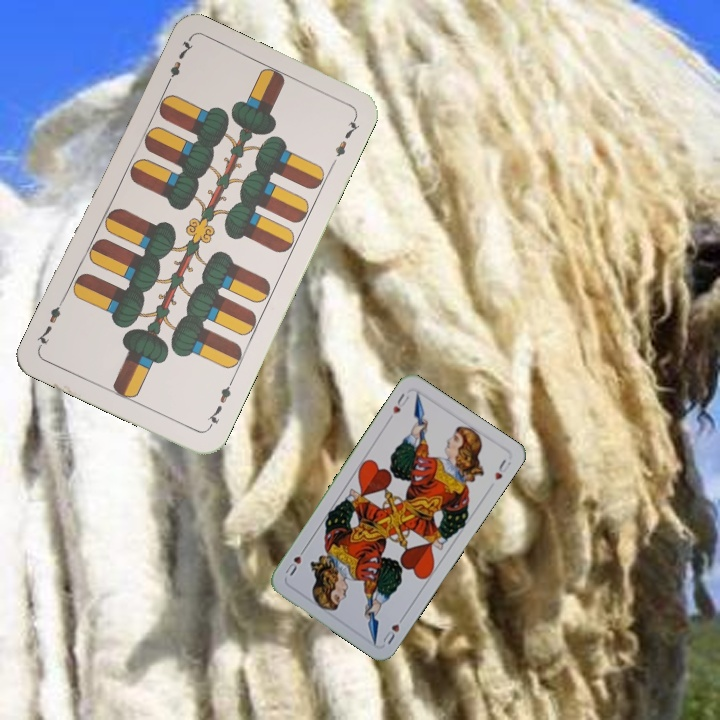E7: (161, 36, 196, 91), (202, 376, 236, 432)
HU: (378, 611, 408, 647), (389, 389, 412, 416)
